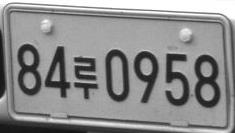0: (104, 47, 130, 102)
4: (44, 45, 70, 98)
5: (164, 52, 190, 106)
8: (193, 53, 221, 108), (16, 42, 41, 96)
9: (132, 50, 159, 103)
루: (73, 56, 98, 99)
